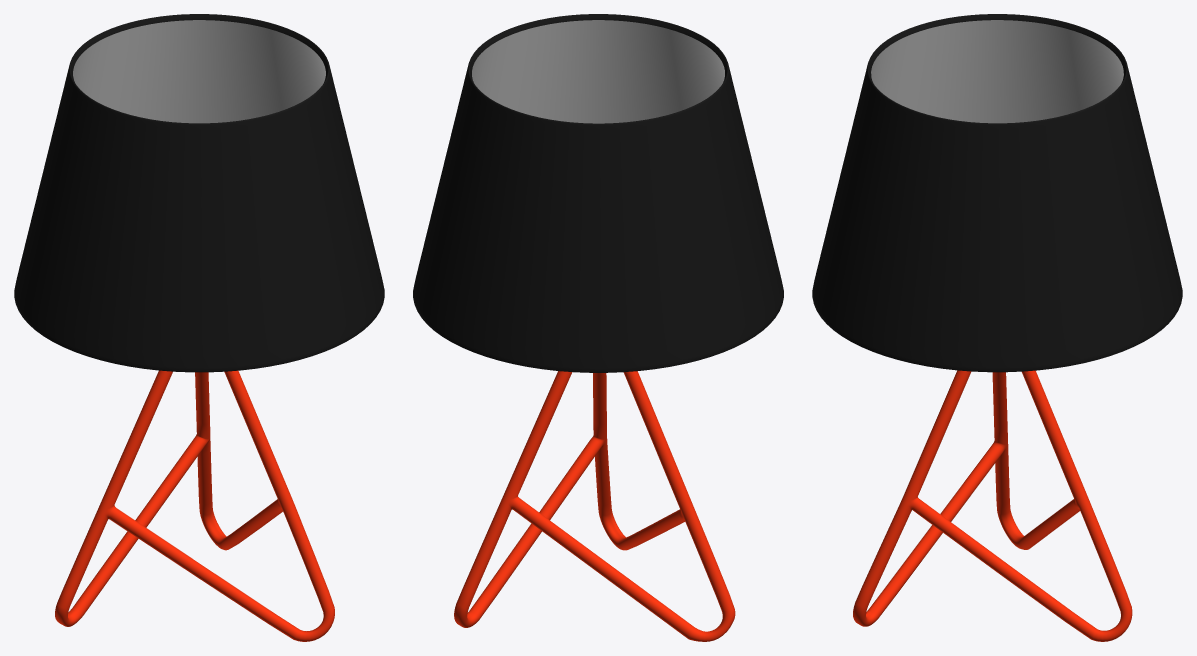
File: lamp.FBX
3 views of the same model, side by side, from view 1: azimuth 30°, elevation 25°; view 2: azimuth 150°, elevation 25°; view 3: azimuth 270°, elevation 25° (orthographic).
Visible parts, largest first — view 1: Cylinder001, Object001, Line003; view 2: Cylinder001, Object001, Line003; view 3: Cylinder001, Object001, Line003.
Part boxes in pixels (box(x1,y1,x2,y2)): Cylinder001: box(14, 14, 384, 372); Object001: box(73, 20, 325, 123); Line003: box(55, 370, 334, 641); Cylinder001: box(413, 14, 783, 372); Object001: box(472, 20, 724, 123); Line003: box(454, 371, 735, 641); Cylinder001: box(812, 14, 1182, 372); Object001: box(871, 20, 1123, 123); Line003: box(853, 370, 1132, 641).
Size of the model in its own units: 244 by 390 by 244.
